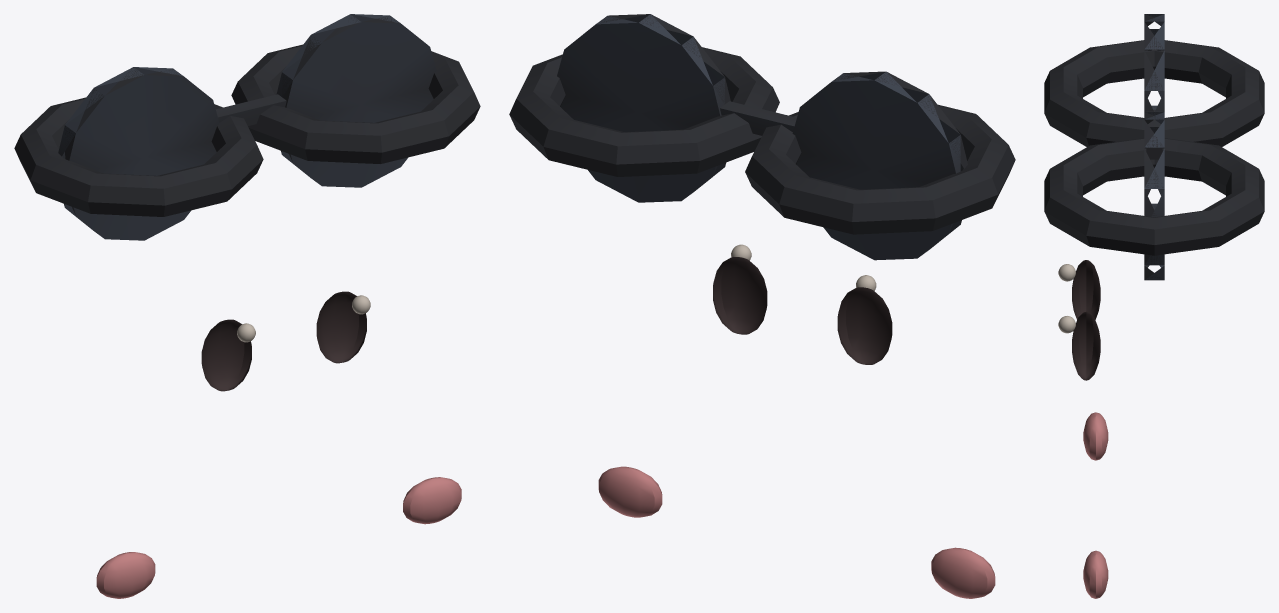
Rendered from p33cdf5e3.glb.
The picture shows the model from 3 angles, left to right: view 1: azimuth 30°, elevation 25°; view 2: azimuth 150°, elevation 25°; view 3: azimuth 270°, elevation 25°; orthographic projection. The views are drawn at different scales.
Visible parts, largest first — view 1: pet_p33cdf5e3; view 2: pet_p33cdf5e3; view 3: pet_p33cdf5e3.
Part boxes in pixels (bbox=[...]): pet_p33cdf5e3: bbox=[14, 14, 480, 598]; pet_p33cdf5e3: bbox=[509, 14, 1015, 598]; pet_p33cdf5e3: bbox=[1044, 14, 1264, 598].
Size of the model in its own units: 0.34 by 0.3684 by 0.1617.
